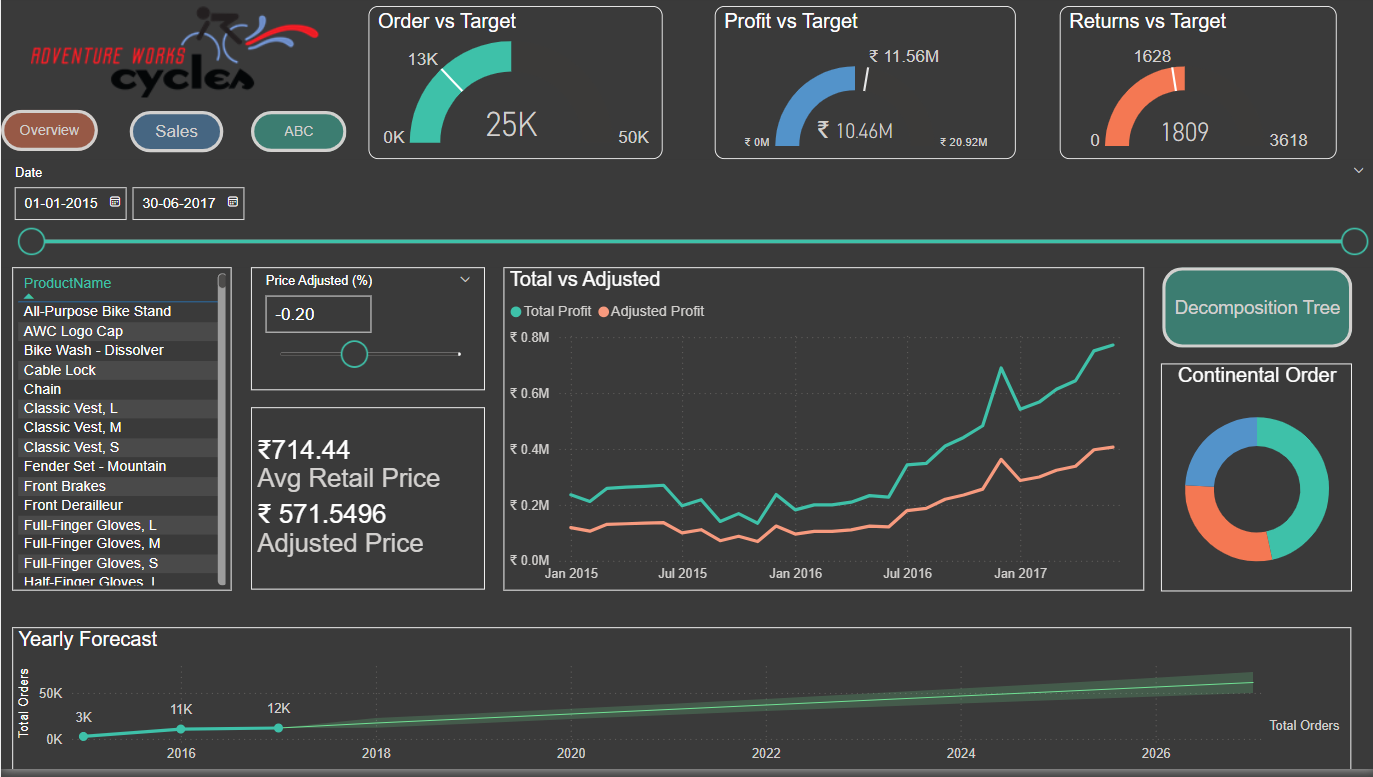

The dashboard page shown, as its layout file describes it:
{"tool":"powerbi","page":{"name":"Drill Through","canvas":[1280,720],"ordinal":3},"visuals":[{"type":"image","box":[23.4,0,280.2,103.8],"z":0},{"type":"gauge","title":"Order vs Target","fields":{"Y":["AW_Sales.Total Orders"],"TargetValue":["AW_Sales.Yearly Order Target"]},"box":[342.1,9.5,273.2,142.5],"z":1000},{"type":"gauge","title":"Profit vs Target","fields":{"Y":["AW_Sales.Total Profit"],"TargetValue":["AW_Sales.Yearly Profit target"]},"box":[664,9.5,280.3,142.5],"z":2000},{"type":"gauge","title":"Returns vs Target","fields":{"Y":["AW_Returns.Total Returns"],"TargetValue":["AW_Sales.Yearly Returns"]},"box":[984.7,9.5,257.8,142.5],"z":3000},{"type":"slicer","fields":{"Values":["AW_Calendar_Lookup.Date"]},"box":[0,152.3,1280.3,100.2],"z":4000},{"type":"lineChart","title":"Yearly Forecast","fields":{"Y":["AW_Sales.Total Orders"],"Category":["AW_Calendar_Lookup.Date.Variation.Date Hierarchy.Year"]},"box":[11,587.3,1246,133.1],"z":5000},{"type":"slicer","fields":{"Values":["Price Adjusted (%).Price Adjusted (%)"]},"box":[232.8,251.8,217.4,114],"z":6000},{"type":"pivotTable","fields":{"Rows":["AW_Product_Lookup.ProductName"]},"box":[10.7,251.8,204.3,300.5],"z":7000},{"type":"multiRowCard","title":"   ","fields":{"Values":["AW_Product_Lookup.Avg Reatil Price","AW_Product_Lookup.Adjusted Price"]},"box":[232.8,382.5,217.4,169.9],"z":8000},{"type":"lineChart","title":"Total vs Adjusted","fields":{"Category":["AW_Calendar_Lookup.Date.Variation.Date Hierarchy.Year","AW_Calendar_Lookup.Date.Variation.Date Hierarchy.Month"],"Y":["AW_Sales.Total Profit","AW_Sales.Adjusted Profit"]},"box":[468,251.8,596.3,300.5],"z":9000},{"type":"actionButton","box":[1079.7,251.8,177,74.8],"z":10000},{"type":"donutChart","title":"        Continental Order","fields":{"Category":["AW_Territories_Lookup.Continent"],"Y":["AW_Sales.Total Orders"]},"box":[1079.4,341.6,177.5,212.1],"z":11000},{"type":"actionButton","box":[0,105.7,90.1,38.3],"z":12000},{"type":"actionButton","box":[233.1,106.7,89.1,38.3],"z":13000},{"type":"actionButton","box":[120.2,106.7,87,38.3],"z":14000}]}

Visuals, with their boxes in screenshot pixels (x1, y1, x2, y2), scaled from the page's 1280x720 canvas onto the 1373x777 screenshot:
image: {"x1": 25, "y1": 0, "x2": 326, "y2": 112}
"Order vs Target" gauge: {"x1": 367, "y1": 10, "x2": 660, "y2": 164}
"Profit vs Target" gauge: {"x1": 712, "y1": 10, "x2": 1013, "y2": 164}
"Returns vs Target" gauge: {"x1": 1056, "y1": 10, "x2": 1333, "y2": 164}
slicer - AW_Calendar_Lookup.Date: {"x1": 0, "y1": 164, "x2": 1372, "y2": 272}
"Yearly Forecast" lineChart: {"x1": 12, "y1": 634, "x2": 1348, "y2": 776}
slicer - Price Adjusted (%).Price Adjusted (%): {"x1": 250, "y1": 272, "x2": 483, "y2": 395}
pivotTable - AW_Product_Lookup.ProductName: {"x1": 11, "y1": 272, "x2": 231, "y2": 596}
"   " multiRowCard: {"x1": 250, "y1": 413, "x2": 483, "y2": 596}
"Total vs Adjusted" lineChart: {"x1": 502, "y1": 272, "x2": 1142, "y2": 596}
actionButton: {"x1": 1158, "y1": 272, "x2": 1348, "y2": 352}
"        Continental Order" donutChart: {"x1": 1158, "y1": 369, "x2": 1348, "y2": 598}
actionButton: {"x1": 0, "y1": 114, "x2": 97, "y2": 155}
actionButton: {"x1": 250, "y1": 115, "x2": 346, "y2": 156}
actionButton: {"x1": 129, "y1": 115, "x2": 222, "y2": 156}
